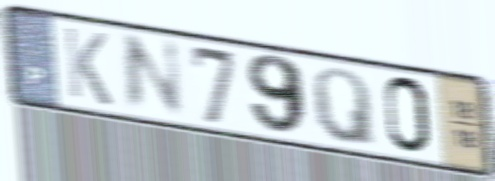0: (381, 74, 434, 158)
7: (187, 41, 241, 127)
9: (246, 52, 311, 140)
K: (61, 23, 115, 110)
N: (120, 31, 187, 118)
Q: (308, 65, 380, 151)
